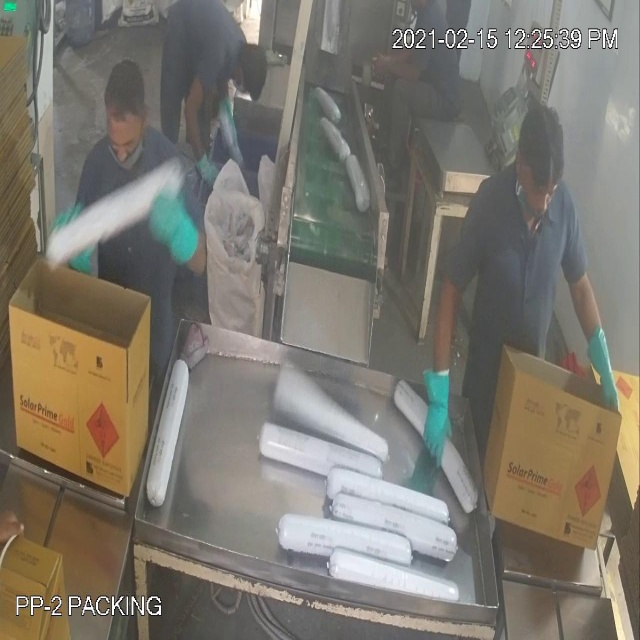Guantes: (135, 180, 210, 285), (572, 300, 628, 426), (416, 351, 465, 476)
